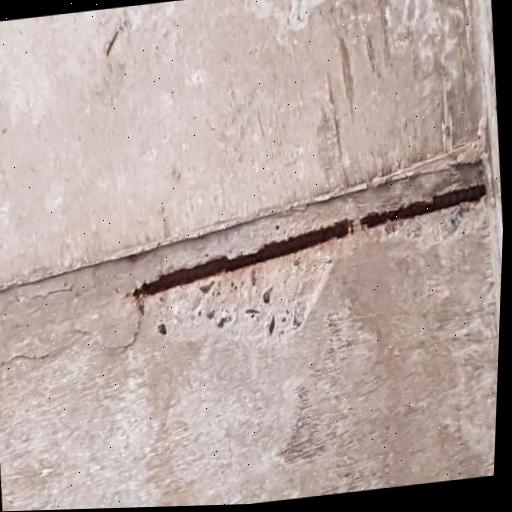exposed_rebar: (134, 219, 351, 298), (361, 185, 486, 227), (107, 31, 118, 57), (200, 281, 215, 294), (218, 316, 232, 328), (263, 287, 273, 303), (246, 308, 259, 317), (269, 316, 275, 335), (250, 269, 256, 287), (138, 302, 145, 316), (207, 309, 215, 320), (158, 324, 166, 334), (231, 282, 237, 288)
spalling: (0, 144, 487, 366)
